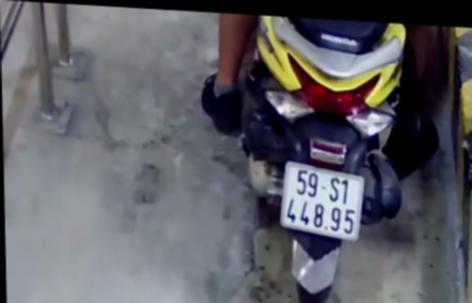License_Plate: (262, 152, 377, 244)
